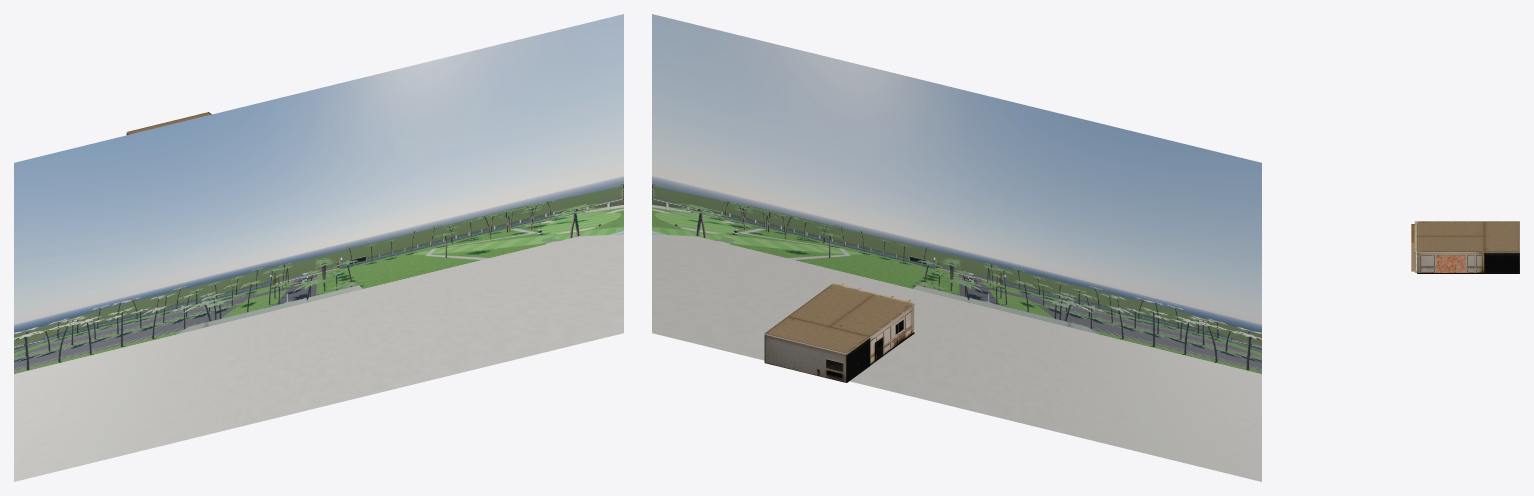
File: int_eko_r9.glb
3 views of the same model, side by side, from view 1: azimuth 30°, elevation 25°; view 2: azimuth 150°, elevation 25°; view 3: azimuth 270°, elevation 25° (orthographic). The views are drawn at different scales.
Parts seen in each view (by area): view 1: VIEW_front; view 2: VIEW_front, ROOM; view 3: ROOM.
Boxes of the visible parts, x1,y1,x2,y2 form: VIEW_front: [14, 14, 623, 481]; VIEW_front: [652, 14, 1261, 481]; ROOM: [764, 283, 915, 382]; ROOM: [1411, 221, 1519, 273].
Bounding box in the file's own units: 72 × 36 × 30.97.
Materials: 3 (2 with a texture image).
